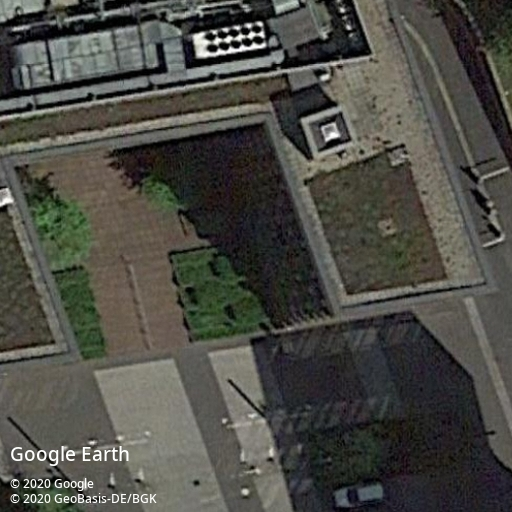Chiller: (192, 20, 269, 59)
